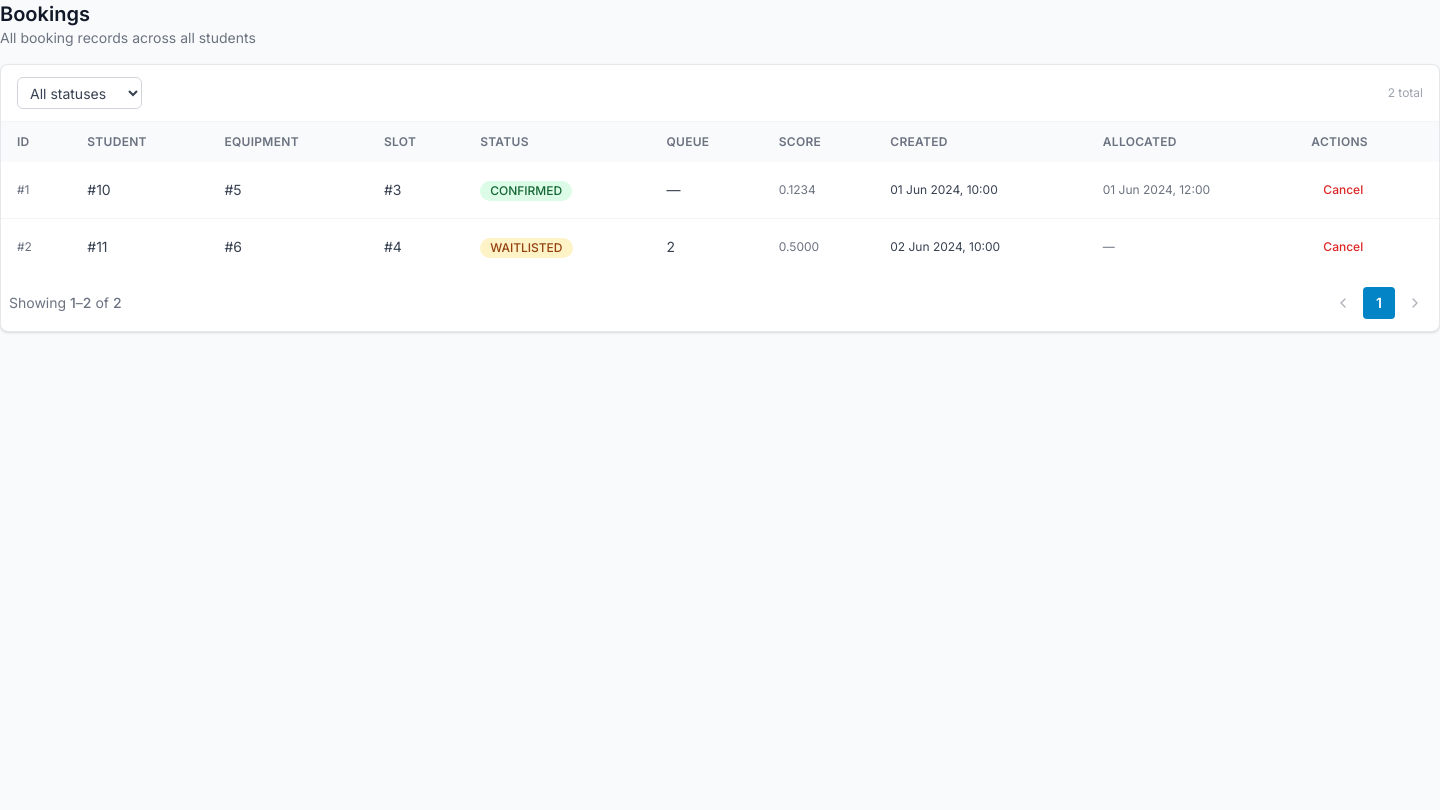
BookingsPage › shows cancel button for cancellable bookings and opens confirm dialog
Expected: the text "#1" is shown, [1, 162, 71, 218]
Step 1. Click the button "Cancel" in the row of "CONFIRMED" → (1343, 190), box [1311, 174, 1375, 206]
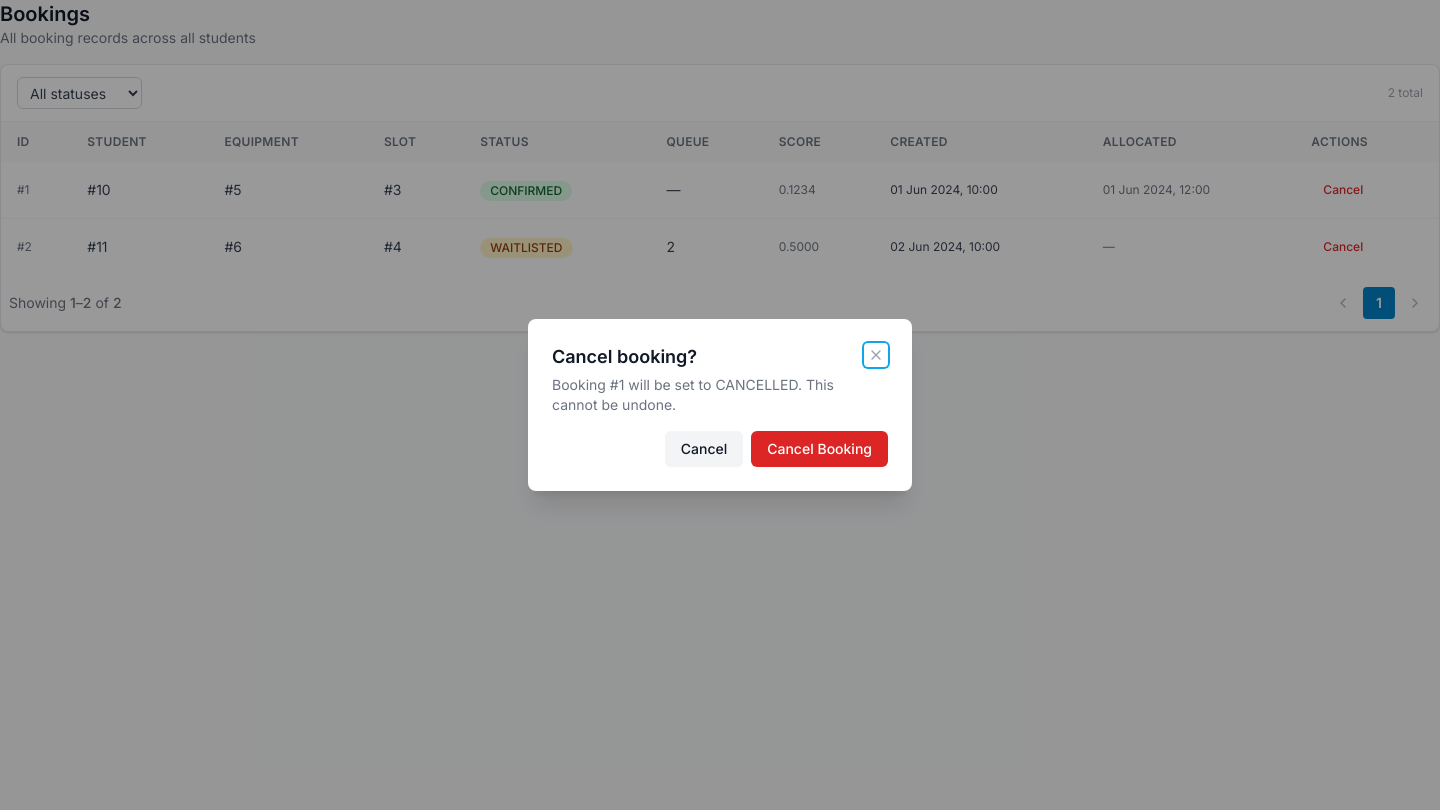
Now the heading "Cancel booking?" is shown, box [552, 346, 697, 367]
